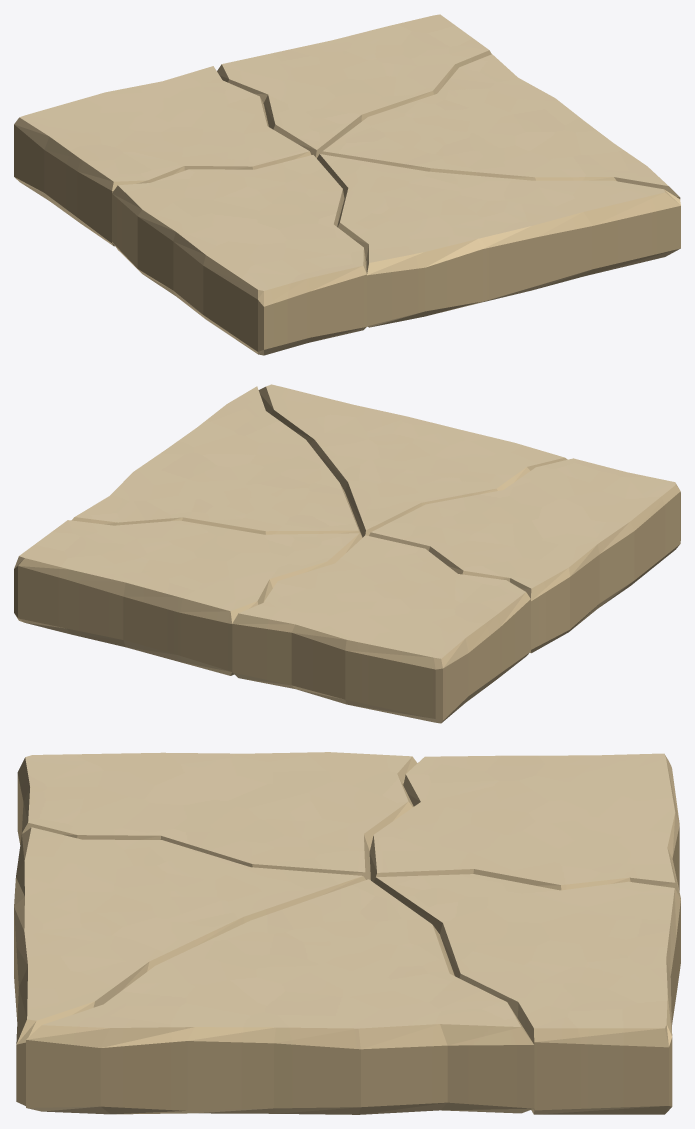
File: tile_c_fragments.glb
The picture shows the model from 3 angles, top to bottom: view 1: azimuth 30°, elevation 25°; view 2: azimuth 150°, elevation 25°; view 3: azimuth 270°, elevation 25°; orthographic projection. The views are drawn at different scales.
Parts seen in each view (by area): view 1: fragment_c_01, fragment_c_05, fragment_c_04, fragment_c_02, fragment_c_03; view 2: fragment_c_04, fragment_c_03, fragment_c_05, fragment_c_02, fragment_c_01; view 3: fragment_c_02, fragment_c_03, fragment_c_05, fragment_c_01, fragment_c_04.
Part boxes in pixels (x1,y1,x2,y2): fragment_c_01: (317, 154, 680, 327); fragment_c_05: (112, 155, 366, 355); fragment_c_04: (14, 66, 311, 246); fragment_c_02: (321, 54, 680, 198); fragment_c_03: (217, 14, 491, 158); fragment_c_04: (232, 535, 530, 723); fragment_c_03: (14, 520, 361, 675); fragment_c_05: (369, 458, 680, 653); fragment_c_02: (71, 386, 362, 537); fragment_c_01: (258, 384, 567, 537); fragment_c_02: (26, 879, 534, 1114); fragment_c_03: (373, 874, 680, 1114); fragment_c_05: (17, 752, 417, 880); fragment_c_01: (14, 827, 365, 1105); fragment_c_04: (369, 753, 680, 898).
Bounding box in the file's own units: 2.8 × 0.4 × 2.8.
Materials: 3 (3 with a texture image).
